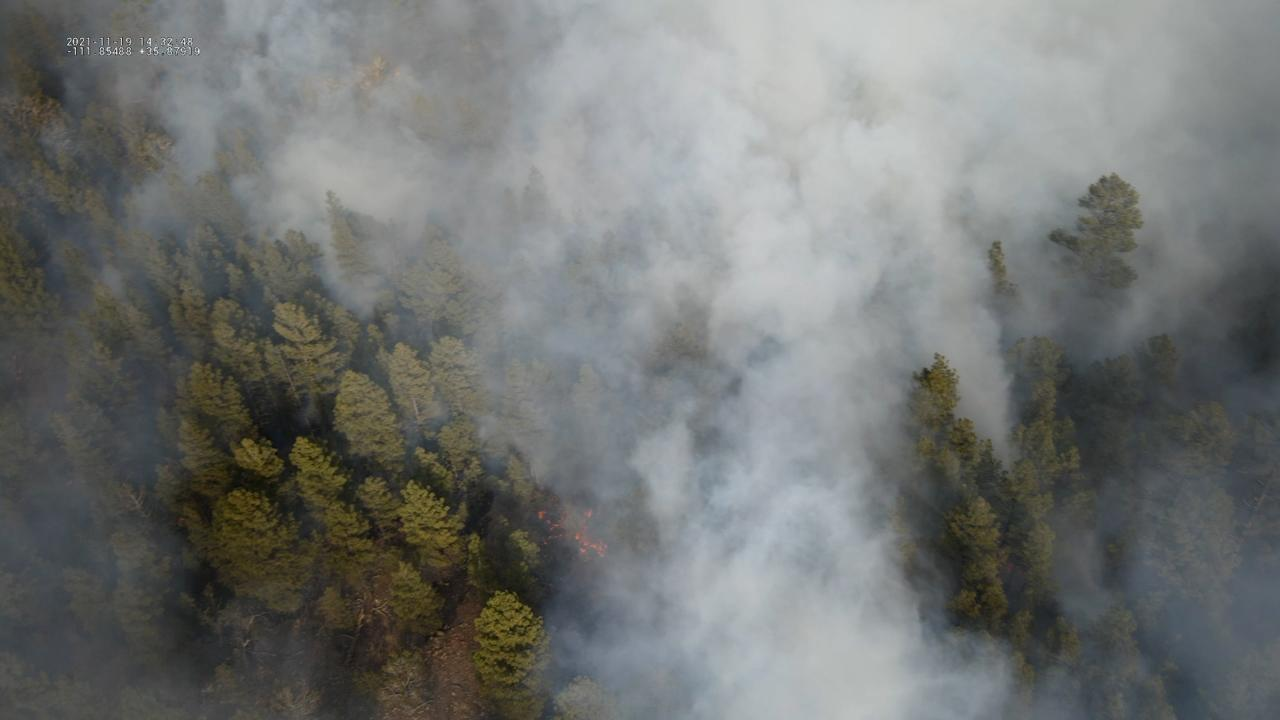fire: (537, 508, 608, 561)
smoke: (0, 0, 1280, 720)
